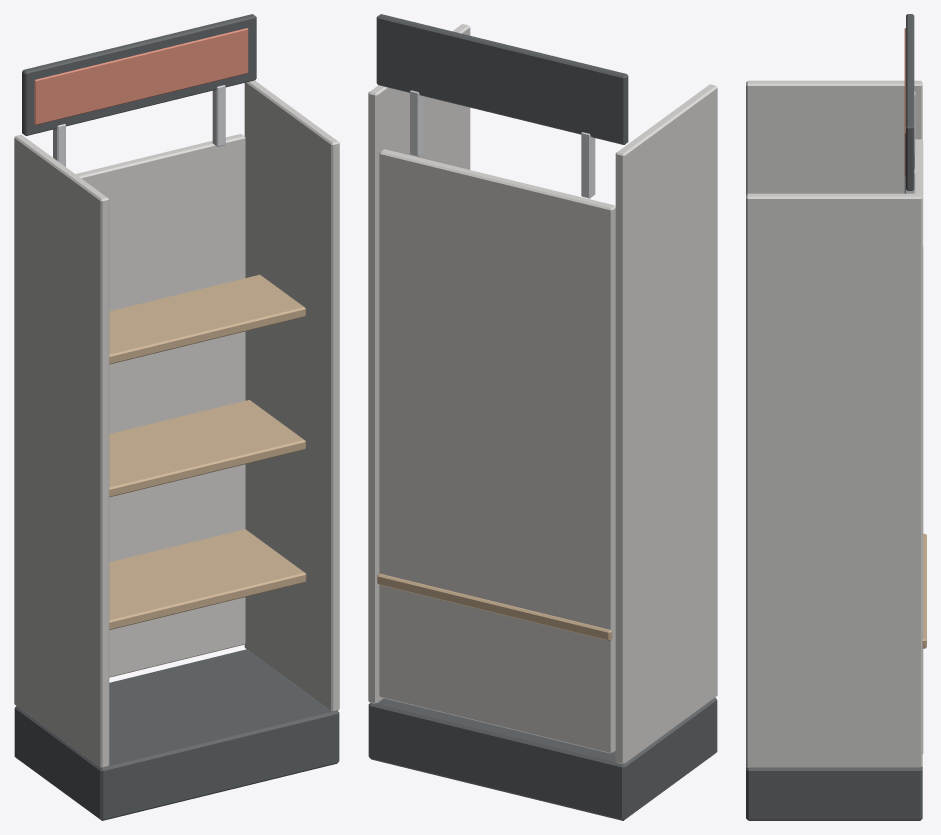
3 renders of one model, left to right at view 1: azimuth 30°, elevation 25°; view 2: azimuth 150°, elevation 25°; view 3: azimuth 270°, elevation 25°, orthographic. The views are drawn at different scales.
Parts seen in each view (by area): view 1: gondola-endcap-unit; view 2: gondola-endcap-unit; view 3: gondola-endcap-unit.
Boxes of the visible parts, x1,y1,x2,y2 form: gondola-endcap-unit: [14, 14, 339, 820]; gondola-endcap-unit: [368, 14, 717, 820]; gondola-endcap-unit: [746, 14, 926, 820].
Size of the model in its own units: 0.66 by 1.82 by 0.4299.
